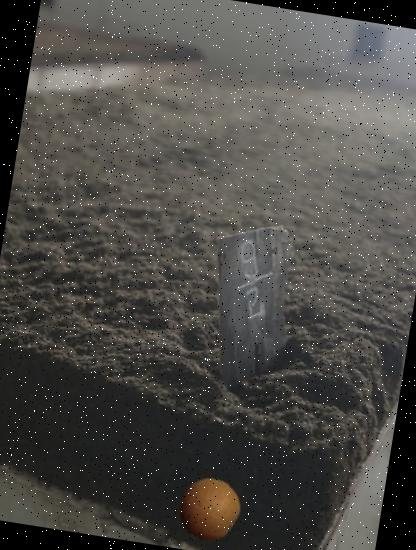Orange: (172, 473, 245, 546)
